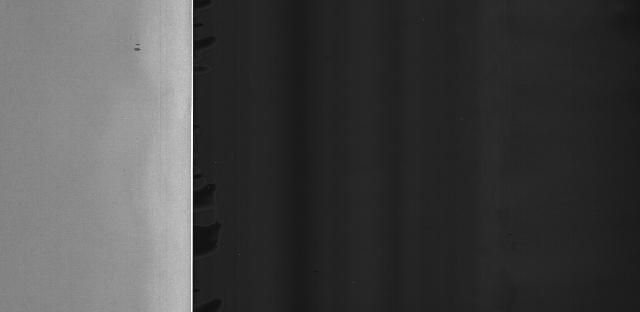oil_spot: (132, 38, 149, 61)
